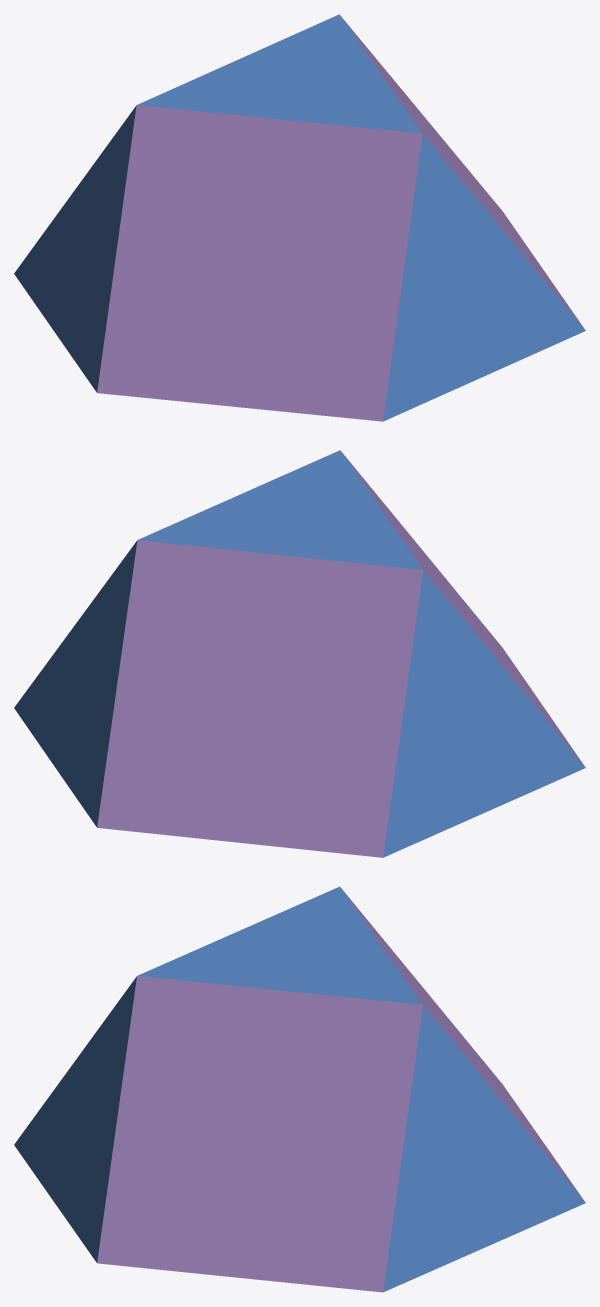
Rendered from J3.CupulaTriangular.gltf.
3 renders of one model, top to bottom at view 1: azimuth 30°, elevation 25°; view 2: azimuth 150°, elevation 25°; view 3: azimuth 270°, elevation 25°, orthographic.
Visible parts, largest first — view 1: J3.CupulaTriangular; view 2: J3.CupulaTriangular; view 3: J3.CupulaTriangular.
Boxes of the visible parts, x1,y1,x2,y2 form: J3.CupulaTriangular: (14, 14, 585, 421); J3.CupulaTriangular: (14, 450, 585, 857); J3.CupulaTriangular: (14, 886, 585, 1292).
Size of the model in its own units: 19.19 by 8.22 by 19.44.
